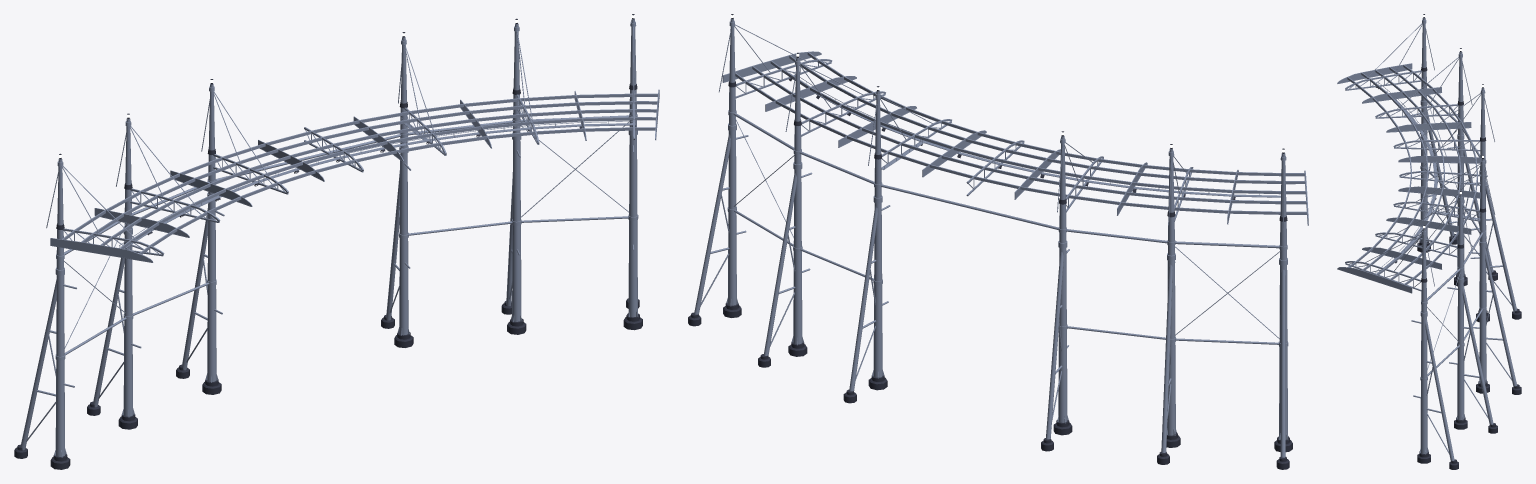
Rendered from roof_canopy_steel_south.glb.
The picture shows the model from 3 angles, left to right: view 1: azimuth 30°, elevation 25°; view 2: azimuth 150°, elevation 25°; view 3: azimuth 270°, elevation 25°; orthographic projection. The views are drawn at different scales.
Parts seen in each view (by area): view 1: roof_canopy_steel_south; view 2: roof_canopy_steel_south; view 3: roof_canopy_steel_south.
Boxes of the visible parts, x1=… form: roof_canopy_steel_south: x1=14, y1=14, x2=659, y2=469; roof_canopy_steel_south: x1=688, y1=14, x2=1308, y2=469; roof_canopy_steel_south: x1=1337, y1=14, x2=1521, y2=469.
Size of the model in its own units: 198 by 94.55 by 67.08.
